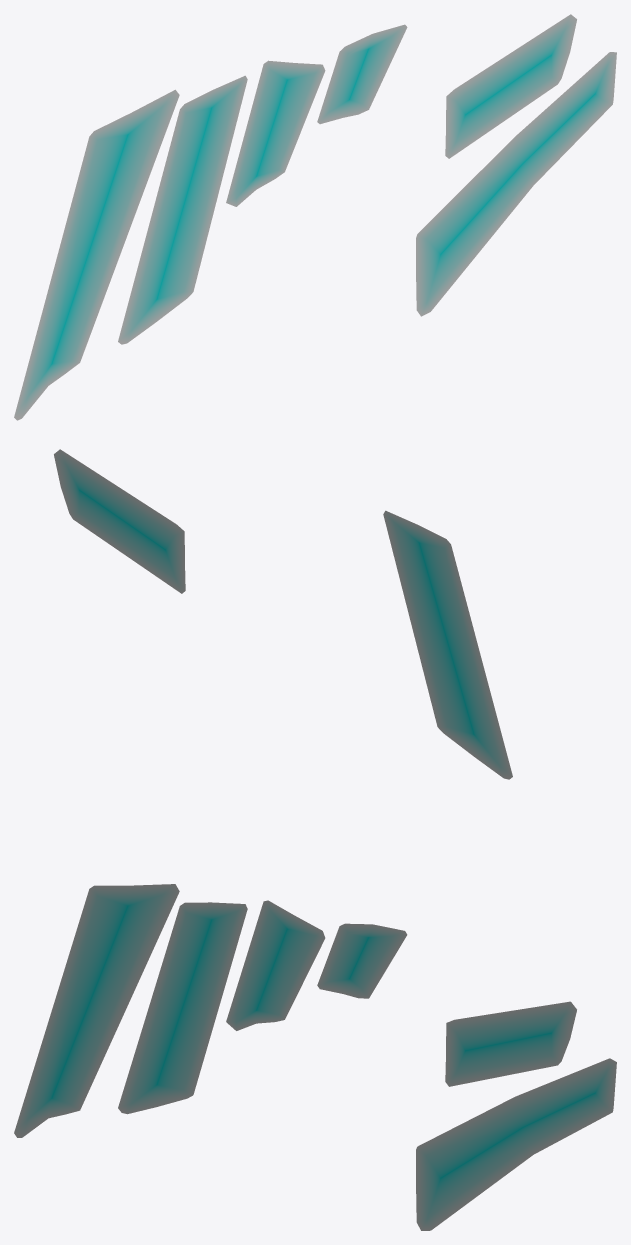
The model's file is SM_EFF_Text_MitotecGeneration_02.glb.
The picture shows the model from 3 angles, top to bottom: view 1: azimuth 30°, elevation 25°; view 2: azimuth 150°, elevation 25°; view 3: azimuth 330°, elevation 25°; orthographic projection.
Visible parts, largest first — view 1: SM_EFF_Text_MitotecGeneration_02; view 2: SM_EFF_Text_MitotecGeneration_02; view 3: SM_EFF_Text_MitotecGeneration_02.
Part boxes in pixels (x1,y1,x2,y2): SM_EFF_Text_MitotecGeneration_02: (14, 14, 616, 420); SM_EFF_Text_MitotecGeneration_02: (54, 449, 512, 779); SM_EFF_Text_MitotecGeneration_02: (14, 884, 616, 1230).
Size of the model in its own units: 2.51 by 1.2 by 1.6e-06.
